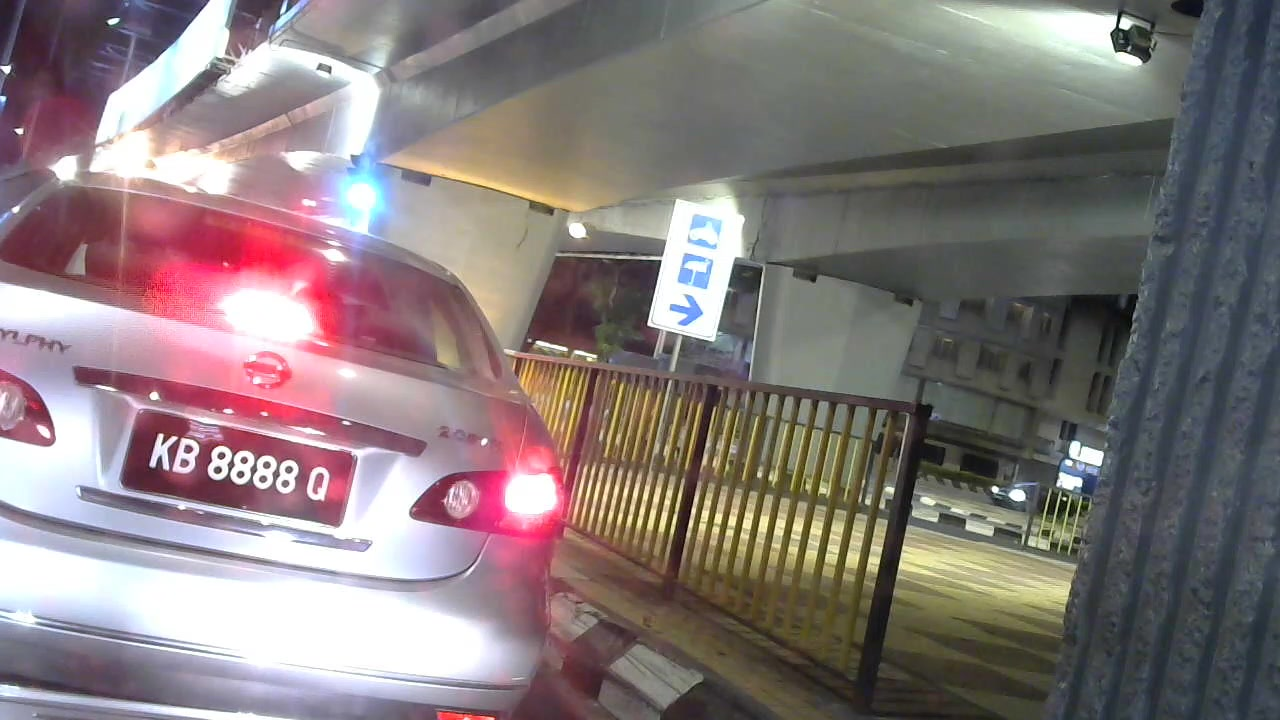Car: (1, 160, 556, 718)
